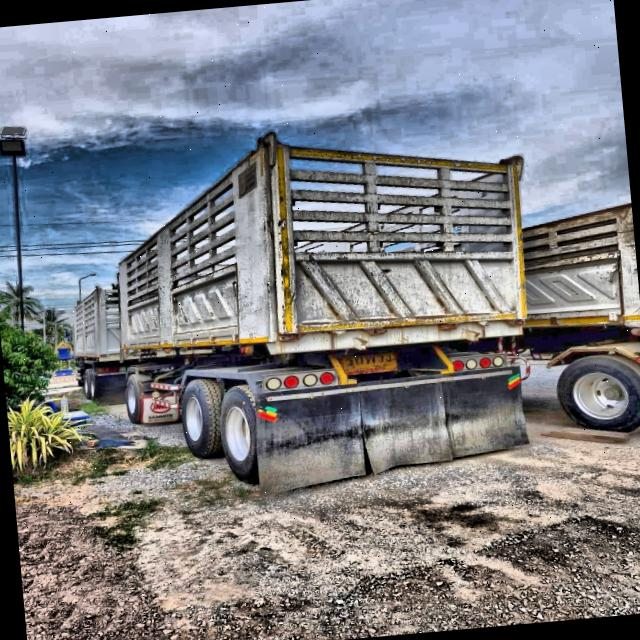trailer: (32, 98, 558, 534)
